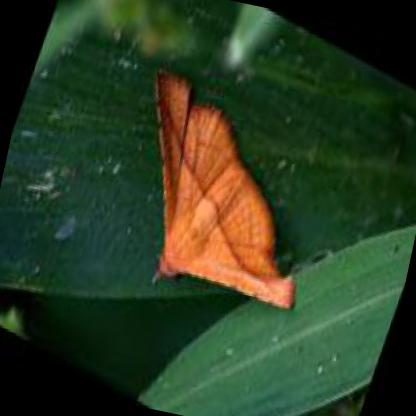Leaf Webber: (154, 71, 297, 311)
